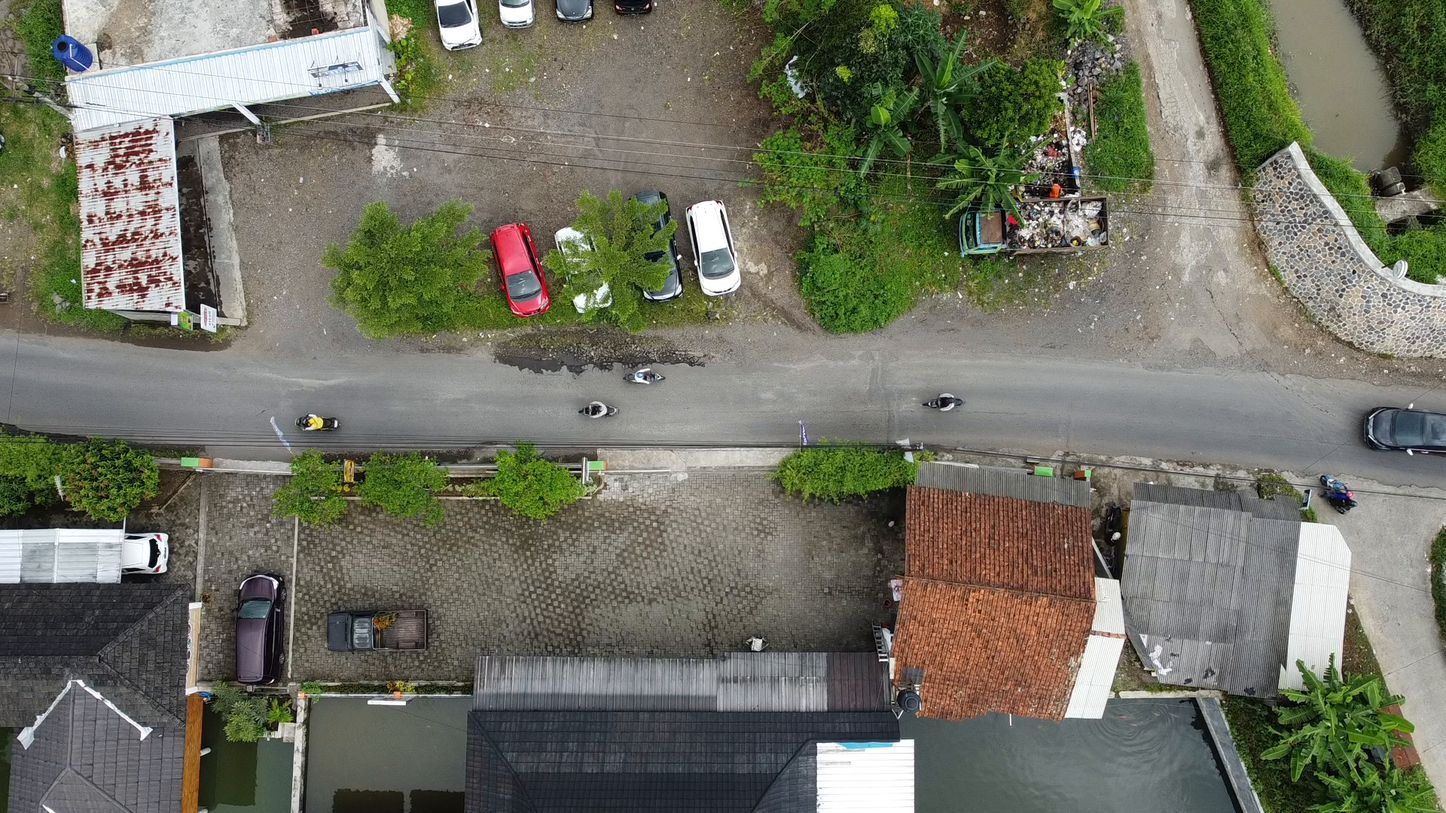mobil: (615, 182, 688, 312), (317, 597, 432, 664), (549, 216, 619, 324), (485, 221, 555, 325), (230, 565, 284, 693), (683, 201, 749, 304), (1360, 392, 1446, 464), (423, 1, 487, 56), (124, 534, 182, 581)
